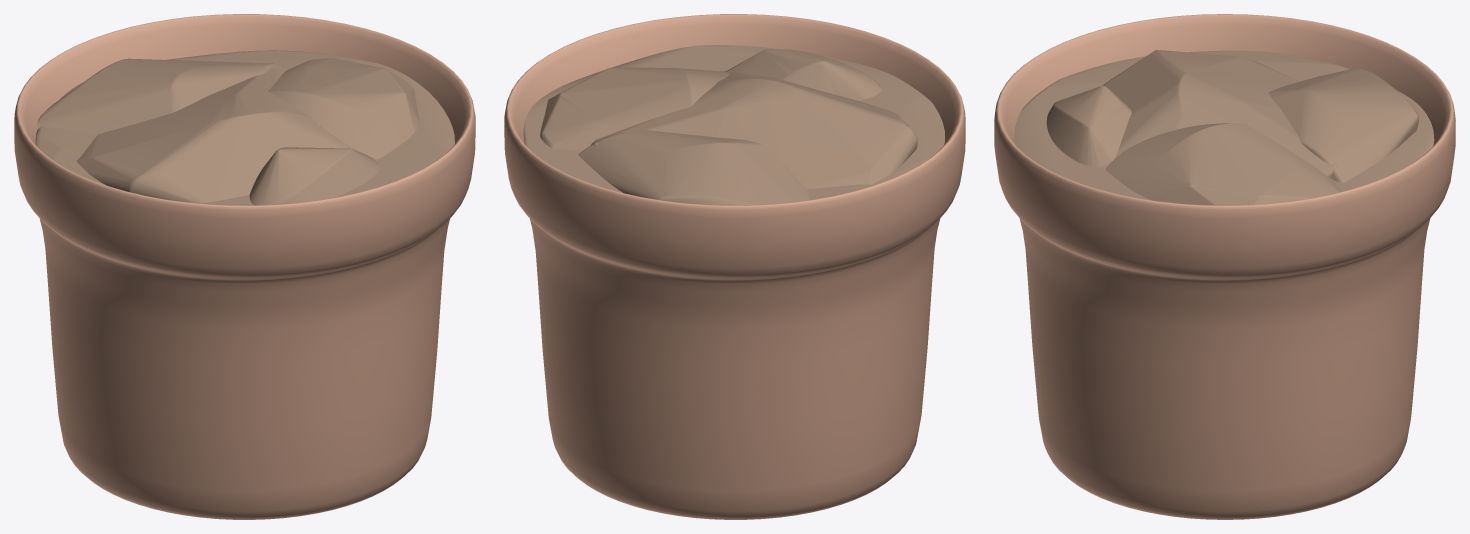
File: pot.fbx
The picture shows the model from 3 angles, left to right: view 1: azimuth 30°, elevation 25°; view 2: azimuth 150°, elevation 25°; view 3: azimuth 270°, elevation 25°; orthographic projection.
Visible parts, largest first — view 1: r.0150, s.0152, s.0155, s.0154, s.0151, s.0153; view 2: r.0150, s.0152, s.0155, s.0151, s.0154, s.0153; view 3: r.0150, s.0154, s.0152, s.0155, s.0151, s.0153.
Part boxes in pixels (bbox=[...]): r.0150: bbox=[14, 14, 475, 519]; s.0152: bbox=[76, 63, 377, 202]; s.0155: bbox=[37, 58, 276, 134]; s.0154: bbox=[268, 58, 419, 158]; s.0151: bbox=[35, 50, 454, 205]; s.0153: bbox=[249, 147, 379, 205]; r.0150: bbox=[504, 14, 965, 519]; s.0152: bbox=[590, 70, 917, 189]; s.0155: bbox=[578, 130, 809, 205]; s.0151: bbox=[523, 45, 944, 199]; s.0154: bbox=[540, 67, 729, 150]; s.0153: bbox=[726, 49, 881, 100]; r.0150: bbox=[994, 14, 1455, 519]; s.0154: bbox=[1106, 123, 1341, 205]; s.0152: bbox=[1100, 50, 1337, 177]; s.0155: bbox=[1268, 68, 1418, 182]; s.0151: bbox=[1014, 50, 1434, 200]; s.0153: bbox=[1046, 86, 1131, 167].
Bounding box in the file's own units: 43.55 × 37.07 × 43.55.
